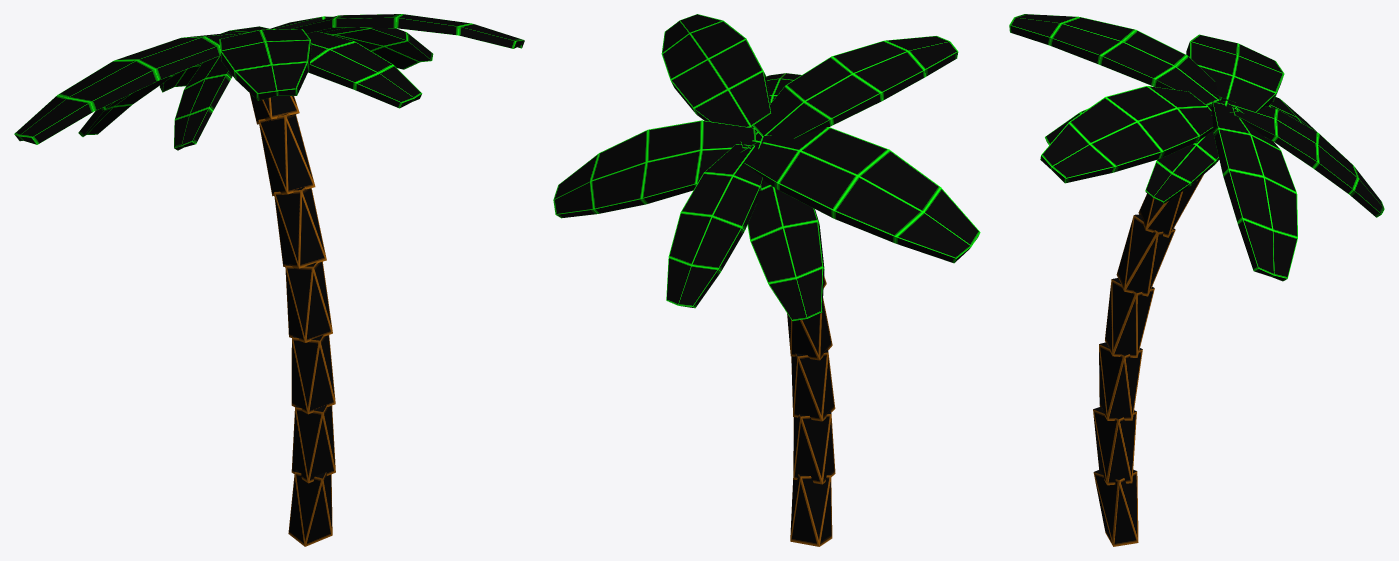
The model's file is palm_retrowave.fbx.
3 views of the same model, side by side, from view 1: azimuth 30°, elevation 25°; view 2: azimuth 150°, elevation 25°; view 3: azimuth 270°, elevation 25° (orthographic). The views are drawn at different scales.
Visible parts, largest first — view 1: Cube; view 2: Cube; view 3: Cube.
Part boxes in pixels (bbox=[...]): Cube: bbox=[14, 14, 524, 546]; Cube: bbox=[553, 14, 980, 546]; Cube: bbox=[1009, 14, 1384, 546].
Size of the model in its own units: 1251 by 1438 by 1012.
Materials: 1 (1 with a texture image).
